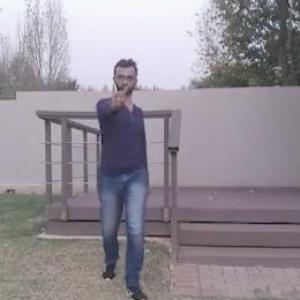takeoff-hand: (107, 74, 136, 113)
